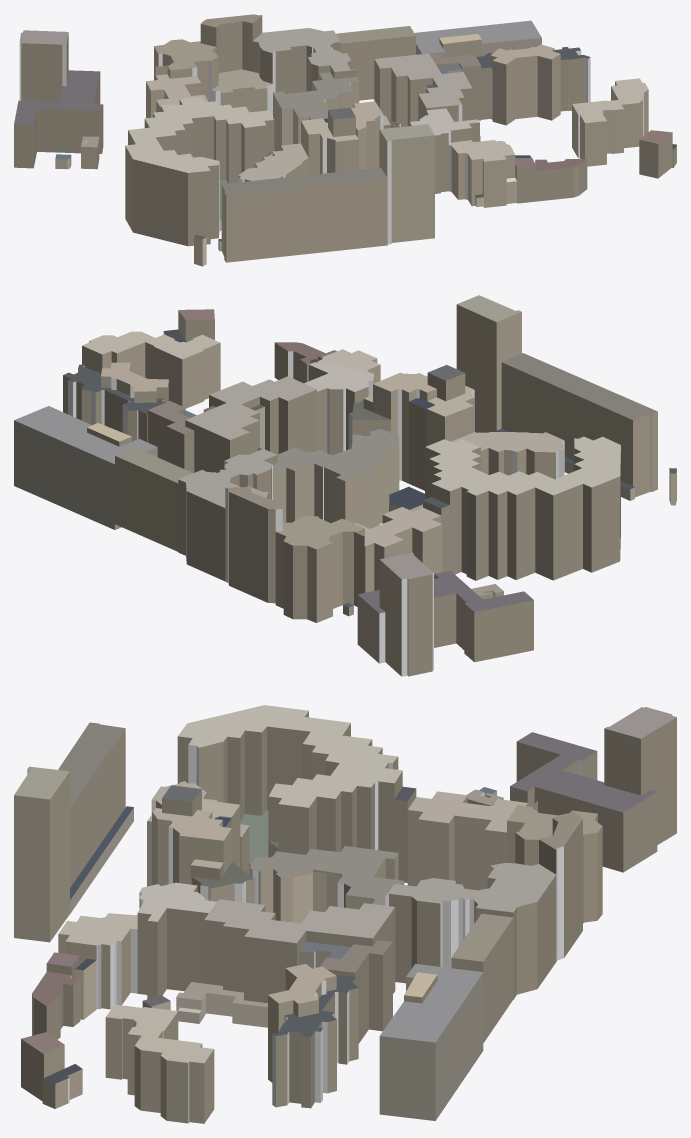
The picture shows the model from 3 angles, top to bottom: view 1: azimuth 30°, elevation 25°; view 2: azimuth 150°, elevation 25°; view 3: azimuth 270°, elevation 25°; orthographic projection. The views are drawn at different scales.
Parts seen in each view (by area): view 1: tuile; view 2: tuile; view 3: tuile.
Boxes of the visible parts, x1,y1,x2,y2 form: tuile: (14, 14, 676, 266); tuile: (14, 295, 676, 676); tuile: (14, 705, 676, 1123).
Size of the model in its own units: 280 by 59.97 by 229.
